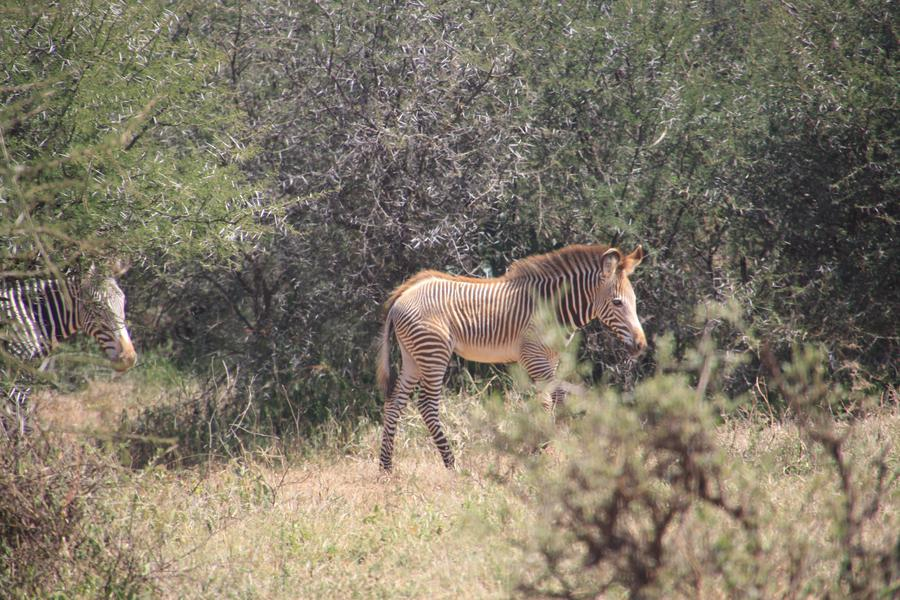zebra_grevys: (386, 262, 554, 347)
